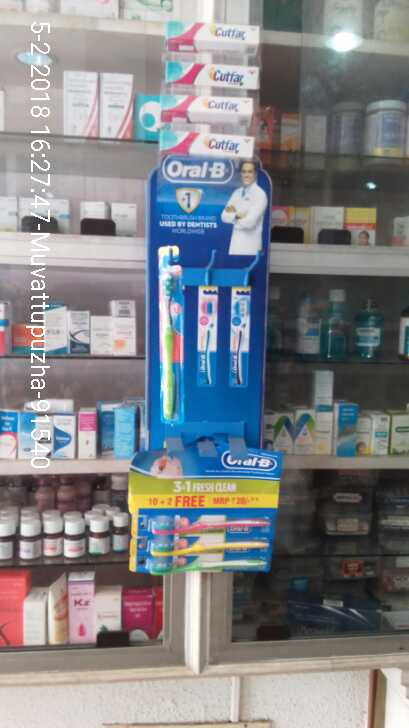oralb: (159, 243, 186, 427), (142, 506, 276, 537), (142, 536, 271, 556), (140, 556, 269, 573)
